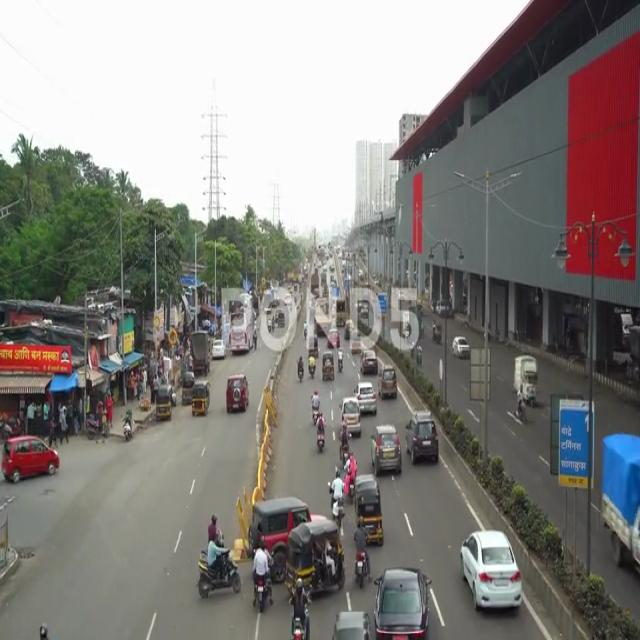car: (458, 528, 520, 610), (372, 563, 431, 640), (2, 439, 63, 485), (405, 411, 438, 463), (372, 424, 402, 476), (224, 370, 254, 414), (377, 365, 399, 396), (354, 381, 376, 411)
motorbike: (194, 530, 245, 598), (286, 574, 314, 640), (250, 538, 272, 621), (352, 518, 368, 588), (343, 454, 355, 504), (315, 411, 328, 452), (312, 388, 318, 423)
rikshaw: (287, 515, 347, 599)
truck: (512, 350, 541, 410)
